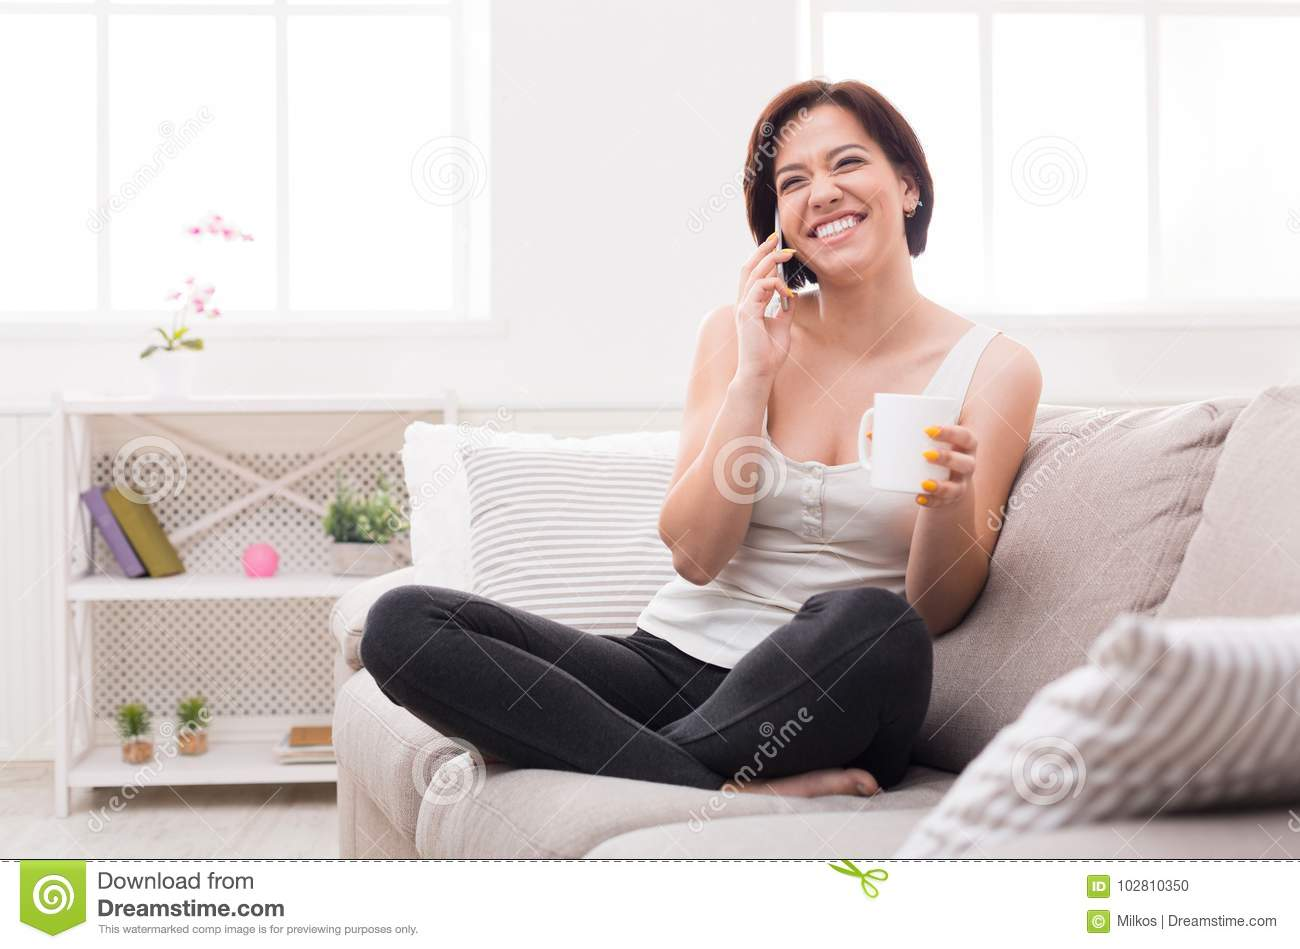phone: (769, 202, 792, 313)
talk: (735, 135, 890, 377)
